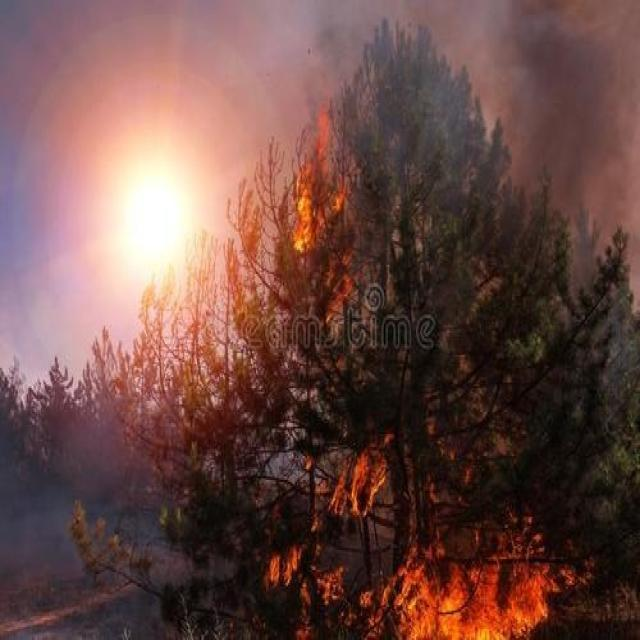Fire: (264, 537, 582, 640), (288, 101, 352, 252), (302, 439, 391, 532)
Smoke: (371, 2, 640, 381), (1, 395, 238, 640)
